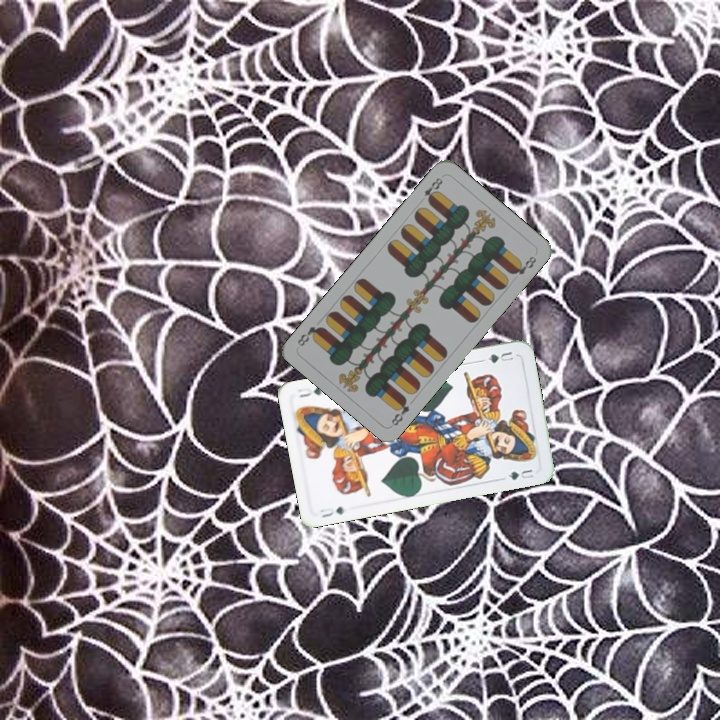E8: (387, 393, 412, 429), (420, 173, 446, 206)
GU: (484, 347, 516, 366), (316, 502, 347, 520)
